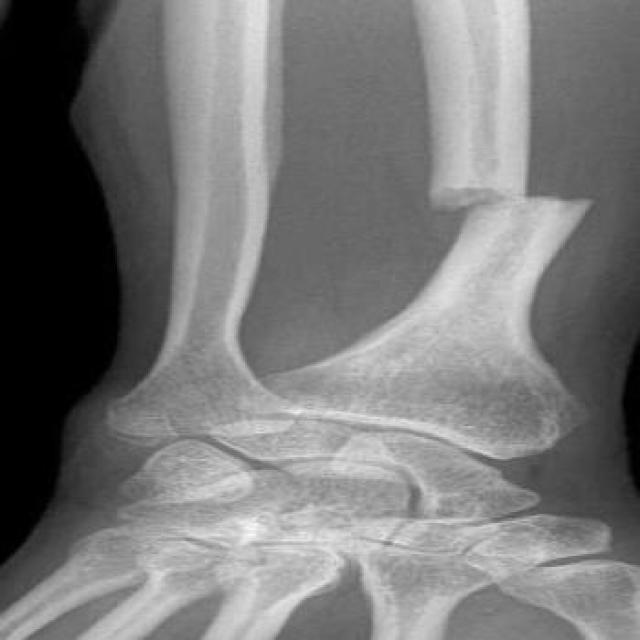Fracture: (407, 171, 622, 228)
